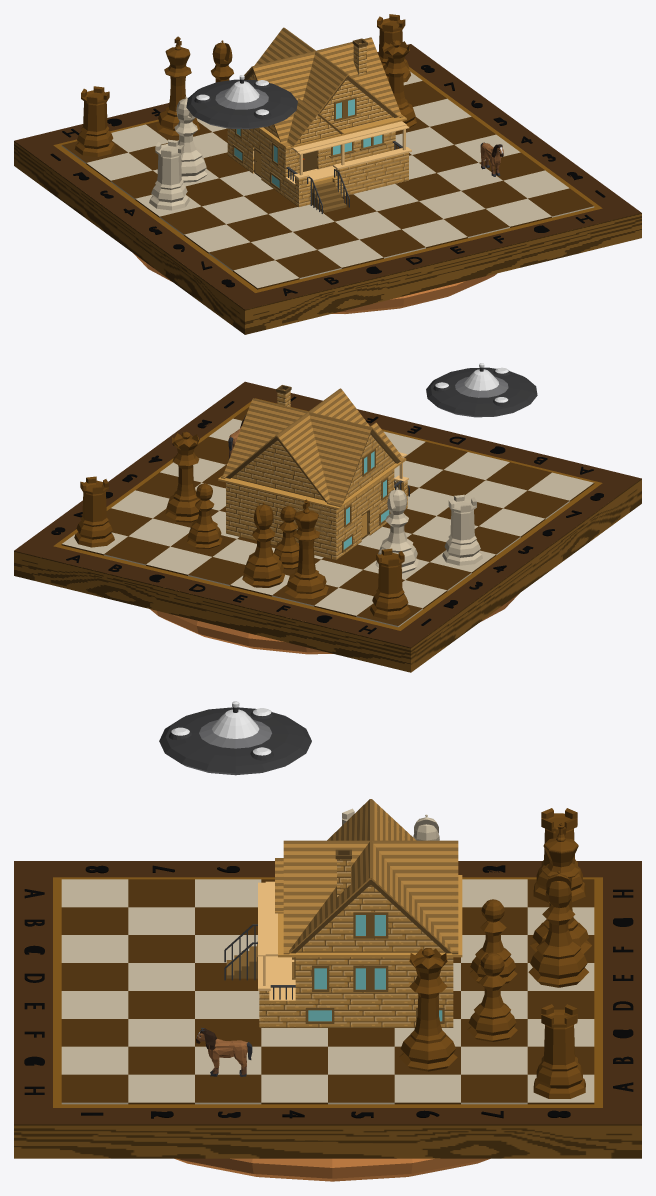
The picture shows the model from 3 angles, top to bottom: view 1: azimuth 30°, elevation 25°; view 2: azimuth 150°, elevation 25°; view 3: azimuth 270°, elevation 25°; orthographic projection. The views are drawn at different scales.
Visible parts, largest first — view 1: Cube.002, Cube.508, OBJRANDOM_UFO, UNDERGROUND_PIZZA, ANIMAL_CABALLO; view 2: Cube.002, Cube.508, OBJRANDOM_UFO, UNDERGROUND_PIZZA; view 3: Cube.002, Cube.508, OBJRANDOM_UFO, UNDERGROUND_PIZZA, ANIMAL_CABALLO.
Boxes of the visible parts, box(x1,y1,x2,y2) form: Cube.002: box(14, 14, 641, 334); Cube.508: box(227, 27, 411, 213); OBJRANDOM_UFO: box(186, 75, 297, 129); UNDERGROUND_PIZZA: box(133, 253, 496, 313); ANIMAL_CABALLO: box(480, 142, 503, 176); Cube.002: box(14, 381, 641, 672); Cube.508: box(218, 385, 409, 560); OBJRANDOM_UFO: box(426, 363, 537, 417); UNDERGROUND_PIZZA: box(150, 593, 519, 654); Cube.002: box(14, 808, 641, 1158); Cube.508: box(224, 799, 462, 1027); OBJRANDOM_UFO: box(159, 701, 311, 775); UNDERGROUND_PIZZA: box(174, 1158, 490, 1181); ANIMAL_CABALLO: box(196, 1027, 252, 1076).
Size of the model in its own units: 3981 by 2021 by 4012.
Materials: 32 (3 with a texture image).
